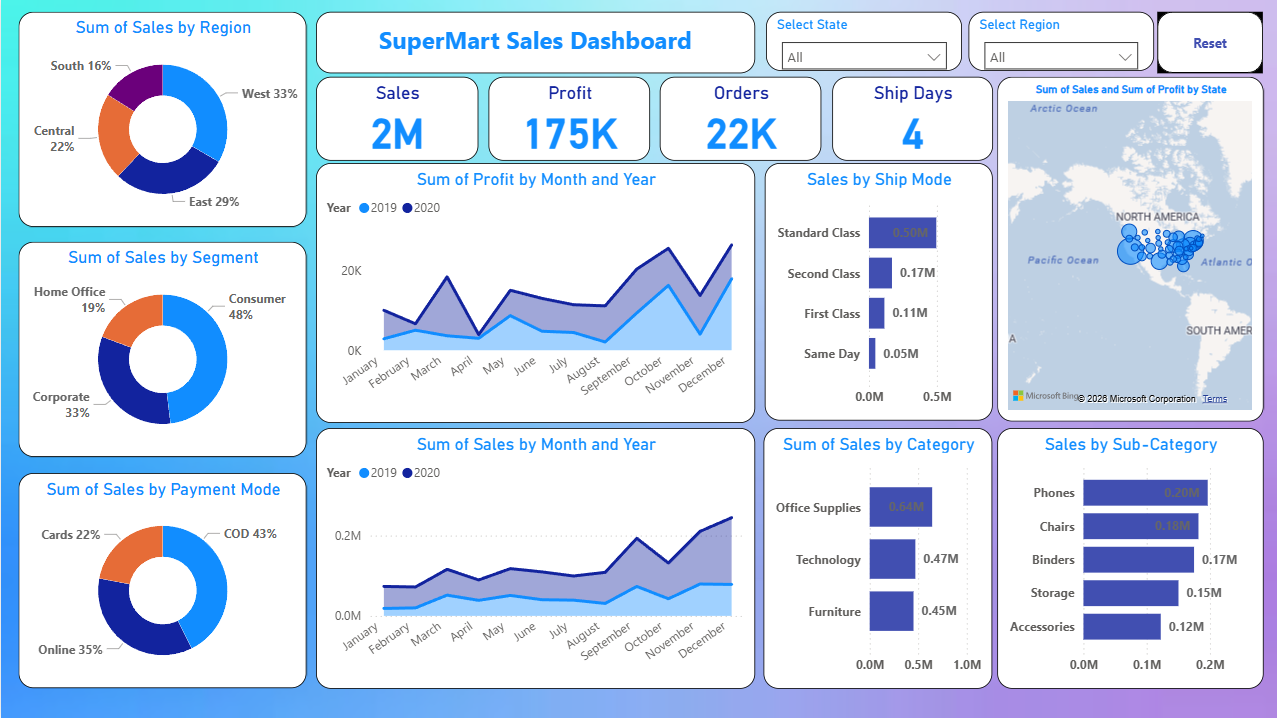

The page's visual inventory and layout, read from the dashboard file:
{"tool":"powerbi","page":{"name":"Page 1","canvas":[1280,720],"ordinal":0},"visuals":[{"type":"clusteredBarChart","fields":{"Category":["Sheet1.Category"],"Y":["Sum(Sheet1.Sales)"]},"box":[763,429.5,229.2,260.7],"z":0},{"type":"clusteredBarChart","title":"Sales by Sub-Category","fields":{"Category":["Sheet1.Sub-Category"],"Y":["Sum(Sheet1.Sales)"]},"box":[996.2,429.5,266.2,260.7],"z":1000},{"type":"clusteredBarChart","title":"Sales by Ship Mode","fields":{"Category":["Sheet1.Ship Mode"],"Y":["Sum(Sheet1.Sales)"]},"box":[764.3,164.7,227.8,258],"z":2000},{"type":"stackedAreaChart","fields":{"Category":["Sheet1.Order Date.Variation.Date Hierarchy.Month"],"Y":["Sum(Sheet1.Sales)"],"Series":["Sheet1.Order Date.Variation.Date Hierarchy.Year"]},"box":[315.6,429.5,439.1,260.7],"z":3000},{"type":"stackedAreaChart","fields":{"Category":["Sheet1.Order Date.Variation.Date Hierarchy.Month"],"Series":["Sheet1.Order Date.Variation.Date Hierarchy.Year"],"Y":["Sum(Sheet1.Profit)"]},"box":[315.6,164.7,439.1,260],"z":4000},{"type":"map","fields":{"Category":["Sheet1.State"],"Size":["Sum(Sheet1.Sales)"]},"box":[996.2,78.2,266.2,344.4],"z":5000},{"type":"donutChart","fields":{"Category":["Sheet1.Segment"],"Y":["Sum(Sheet1.Sales)"]},"box":[18.1,244.3,288.2,215.4],"z":6000},{"type":"donutChart","fields":{"Y":["Sum(Sheet1.Sales)"],"Category":["Sheet1.Payment Mode"]},"box":[18.1,474.8,288.2,215.4],"z":7000},{"type":"card","title":"Sales","fields":{"Values":["Sum(Sheet1.Sales)"]},"box":[315.6,78.2,162,83.7],"z":8000},{"type":"donutChart","fields":{"Category":["Sheet1.Region"],"Y":["Sum(Sheet1.Sales)"]},"box":[18.1,13.7,288.2,215.4],"z":9000},{"type":"textbox","box":[315.6,13.7,439.1,61.7],"z":10000},{"type":"card","title":"Profit","fields":{"Values":["Sum(Sheet1.Profit)"]},"box":[487.1,78.2,161.9,83.7],"z":11000},{"type":"card","title":"Orders","fields":{"Values":["Sum(Sheet1.Quantity)"]},"box":[658.7,78.2,161.9,83.7],"z":12000},{"type":"card","title":"Ship Days","fields":{"Values":["Avg(Sheet1.AvgDelivery)"]},"box":[831.6,78.2,160.5,83.7],"z":13000},{"type":"actionButton","box":[1156.2,13.9,105.7,61.2],"z":14000},{"type":"slicer","title":"Select State","fields":{"Values":["Sheet1.State"]},"box":[764.4,13.5,196.3,58.9],"z":15000},{"type":"slicer","title":"Select Region","fields":{"Values":["Sheet1.Region"]},"box":[966.9,13.5,185.3,58.9],"z":16000}]}

Visuals, with their boxes in screenshot pixels (x1, y1, x2, y2), scaled from the page's 1280x720 canvas onto the 1277x718 screenshot:
clusteredBarChart - Sheet1.Category x Sum(Sheet1.Sales): l=761, t=428, r=990, b=688
"Sales by Sub-Category" clusteredBarChart: l=994, t=428, r=1259, b=688
"Sales by Ship Mode" clusteredBarChart: l=763, t=164, r=990, b=422
stackedAreaChart - Sheet1.Order Date.Variation.Date Hierarchy.Month x Sum(Sheet1.Sales): l=315, t=428, r=753, b=688
stackedAreaChart - Sheet1.Order Date.Variation.Date Hierarchy.Month x Sheet1.Order Date.Variation.Date Hierarchy.Year: l=315, t=164, r=753, b=424
map - Sheet1.State x Sum(Sheet1.Sales): l=994, t=78, r=1259, b=421
donutChart - Sheet1.Segment x Sum(Sheet1.Sales): l=18, t=244, r=306, b=458
donutChart - Sum(Sheet1.Sales) x Sheet1.Payment Mode: l=18, t=473, r=306, b=688
"Sales" card: l=315, t=78, r=476, b=161
donutChart - Sheet1.Region x Sum(Sheet1.Sales): l=18, t=14, r=306, b=228
textbox: l=315, t=14, r=753, b=75
"Profit" card: l=486, t=78, r=647, b=161
"Orders" card: l=657, t=78, r=819, b=161
"Ship Days" card: l=830, t=78, r=990, b=161
actionButton: l=1153, t=14, r=1259, b=75
"Select State" slicer: l=763, t=13, r=958, b=72
"Select Region" slicer: l=965, t=13, r=1149, b=72
